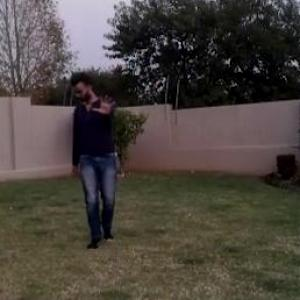follow_hand: (90, 88, 120, 115)
